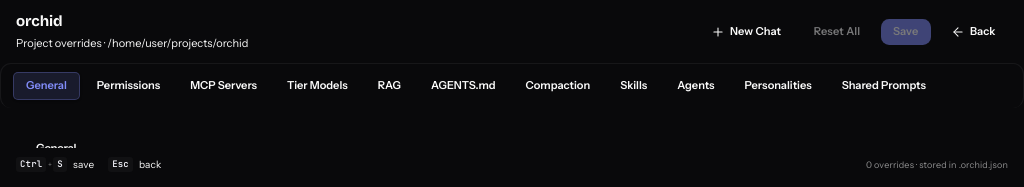
Scenario: ProjectConfigView › skills tab renders embedded SkillsTab with project scope
What coordinates should you click on to do the following:
click the tab "Skills"
I would click on:
 (634, 86)
Its box is [607, 72, 660, 100].
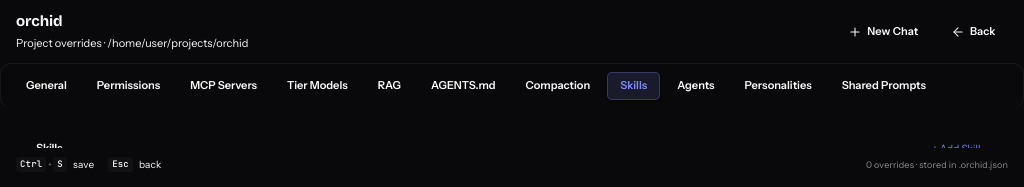
Expected: the button "Reset All" is gone
